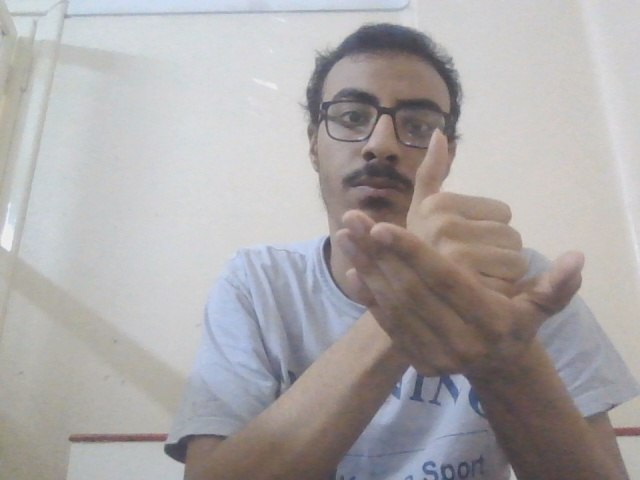Help: (331, 127, 588, 386)
